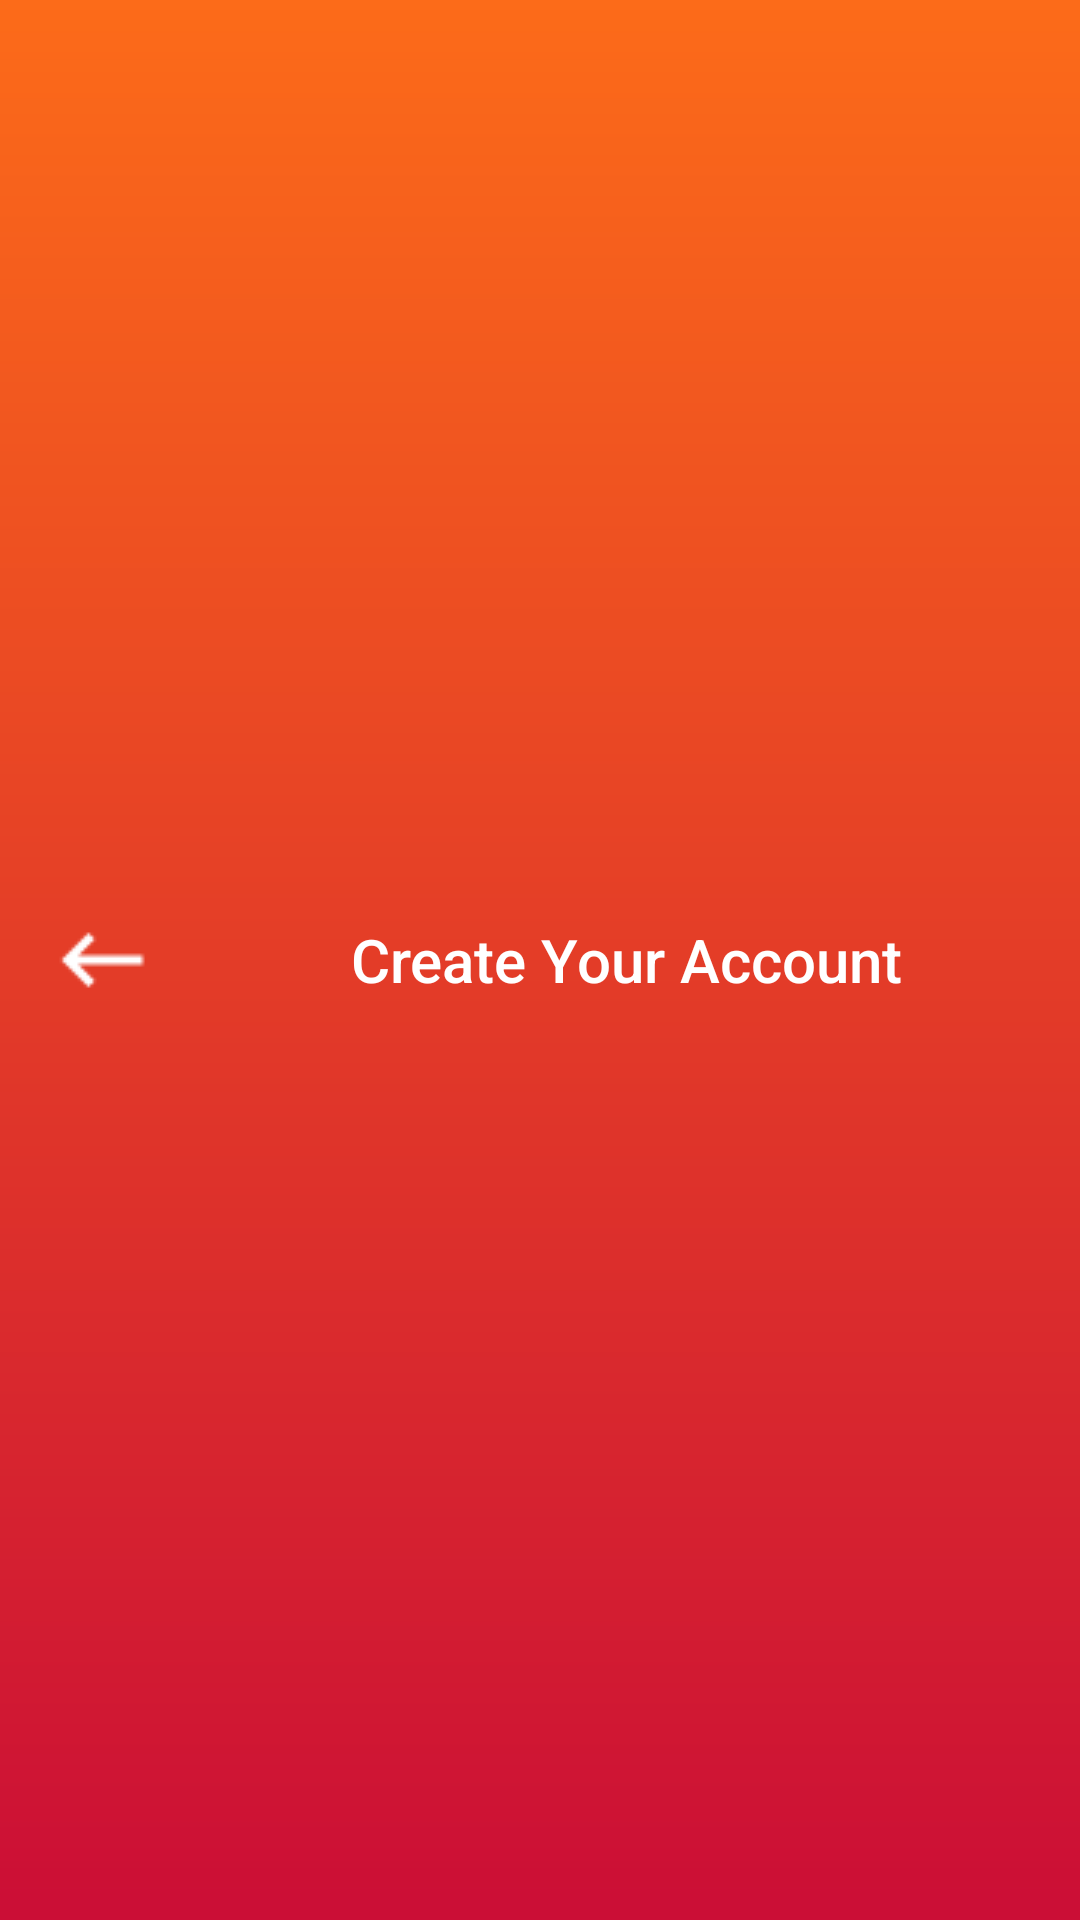

Icon click points for this 1080px×1920px phone screenshot, format [x,y]:
keyboard backspace: [103,960]
